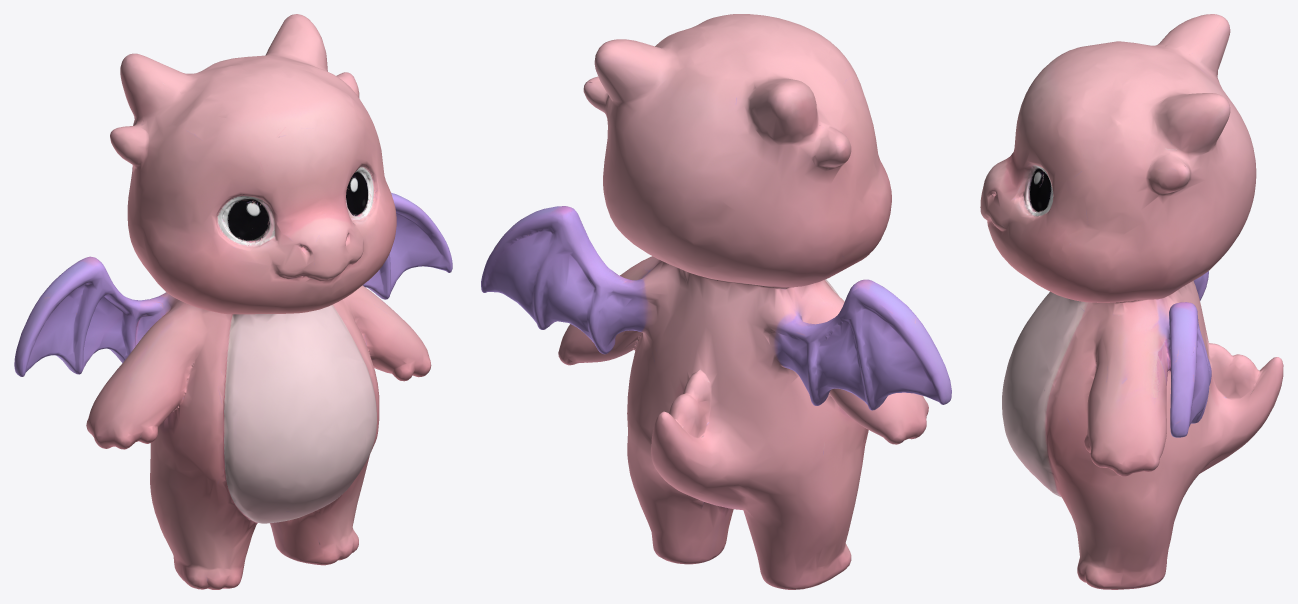
The model's file is pet.glb.
3 renders of one model, left to right at view 1: azimuth 30°, elevation 25°; view 2: azimuth 150°, elevation 25°; view 3: azimuth 270°, elevation 25°, orthographic. The views are drawn at different scales.
Parts seen in each view (by area): view 1: Mesh_0; view 2: Mesh_0; view 3: Mesh_0.
Boxes of the visible parts, x1,y1,x2,y2 form: Mesh_0: (14,14,452,589); Mesh_0: (481,14,951,589); Mesh_0: (980,14,1283,589).
Size of the model in its own units: 1.75 by 1.91 by 1.06.
Materials: 1 (1 with a texture image).
